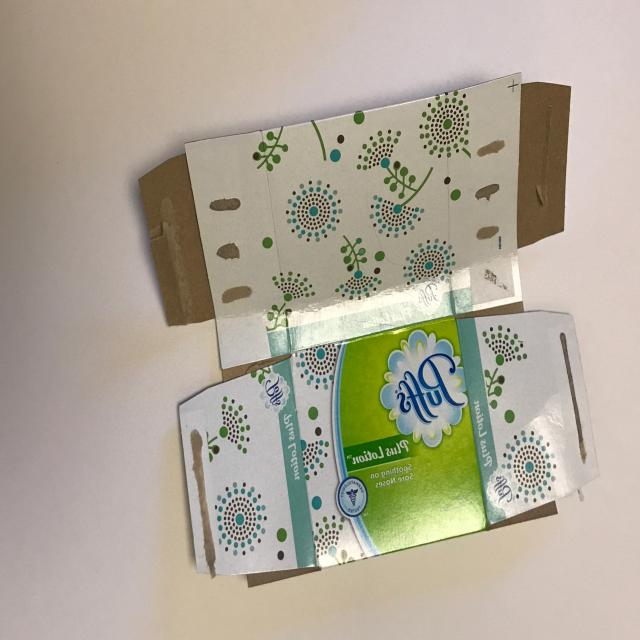paper: (123, 55, 608, 602)
